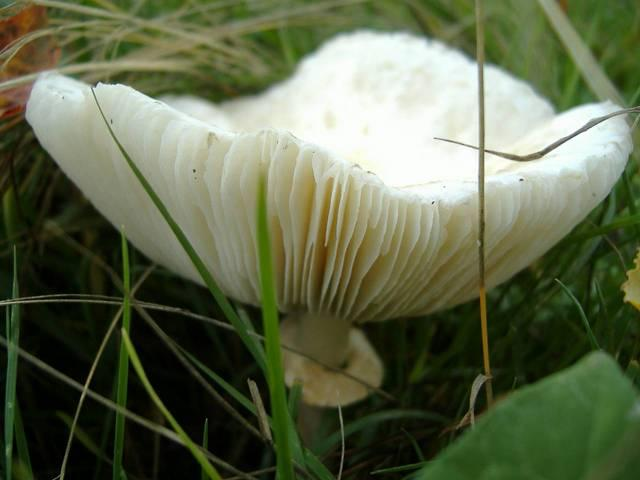poisonous_mushroom: (23, 28, 634, 419)
